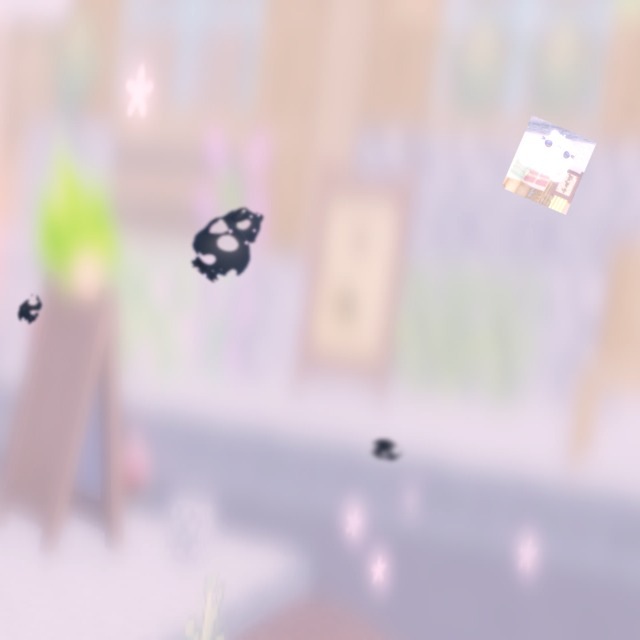urso_branco: (501, 115, 597, 215)
urso_preto: (177, 184, 286, 297), (7, 286, 53, 333), (364, 430, 409, 470)
